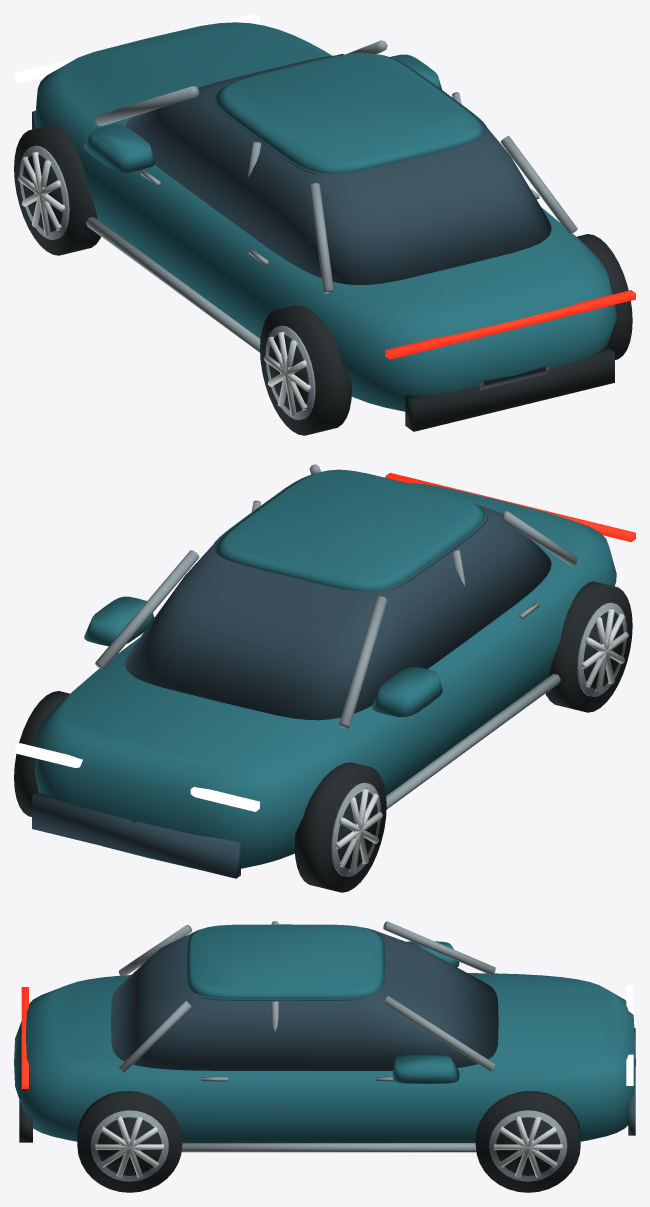
The model's file is traffic-car.glb.
3 renders of one model, top to bottom at view 1: azimuth 30°, elevation 25°; view 2: azimuth 150°, elevation 25°; view 3: azimuth 270°, elevation 25°, orthographic. The views are drawn at different scales.
Visible parts, largest first — view 1: car_carpaint, car_darkglass, car_rubber, car_steel, car_silver, car_redled, car_led; view 2: car_carpaint, car_darkglass, car_rubber, car_steel, car_silver, car_led, car_redled; view 3: car_carpaint, car_darkglass, car_rubber, car_steel, car_silver, car_redled, car_led.
Part boxes in pixels (x1=…): car_carpaint: x1=35, y1=22, x2=616, y2=411; car_darkglass: x1=32, y1=54, x2=551, y2=385; car_rubber: x1=14, y1=54, x2=632, y2=435; car_steel: x1=19, y1=40, x2=577, y2=420; car_silver: x1=17, y1=151, x2=310, y2=415; car_redled: x1=385, y1=290, x2=635, y2=359; car_led: x1=15, y1=14, x2=259, y2=82; car_carpaint: x1=35, y1=469, x2=616, y2=868; car_darkglass: x1=32, y1=473, x2=551, y2=878; car_rubber: x1=14, y1=581, x2=632, y2=892; car_steel: x1=95, y1=464, x2=626, y2=876; car_silver: x1=336, y1=608, x2=628, y2=872; car_led: x1=15, y1=743, x2=259, y2=811; car_redled: x1=385, y1=473, x2=635, y2=542; car_carpaint: x1=14, y1=924, x2=635, y2=1142; car_darkglass: x1=111, y1=927, x2=635, y2=1135; car_rubber: x1=19, y1=1091, x2=580, y2=1192; car_steel: x1=90, y1=921, x2=567, y2=1181; car_silver: x1=95, y1=1116, x2=562, y2=1177; car_redled: x1=21, y1=987, x2=28, y2=1088; car_led: x1=626, y1=985, x2=633, y2=1085.
Bounding box in the file's own units: 2.3 × 1.43 × 4.62.
